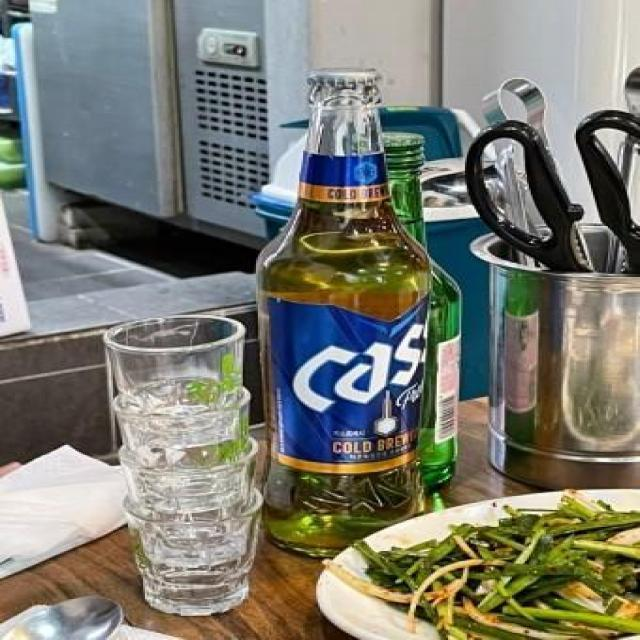beer-bottle: (265, 61, 437, 548)
